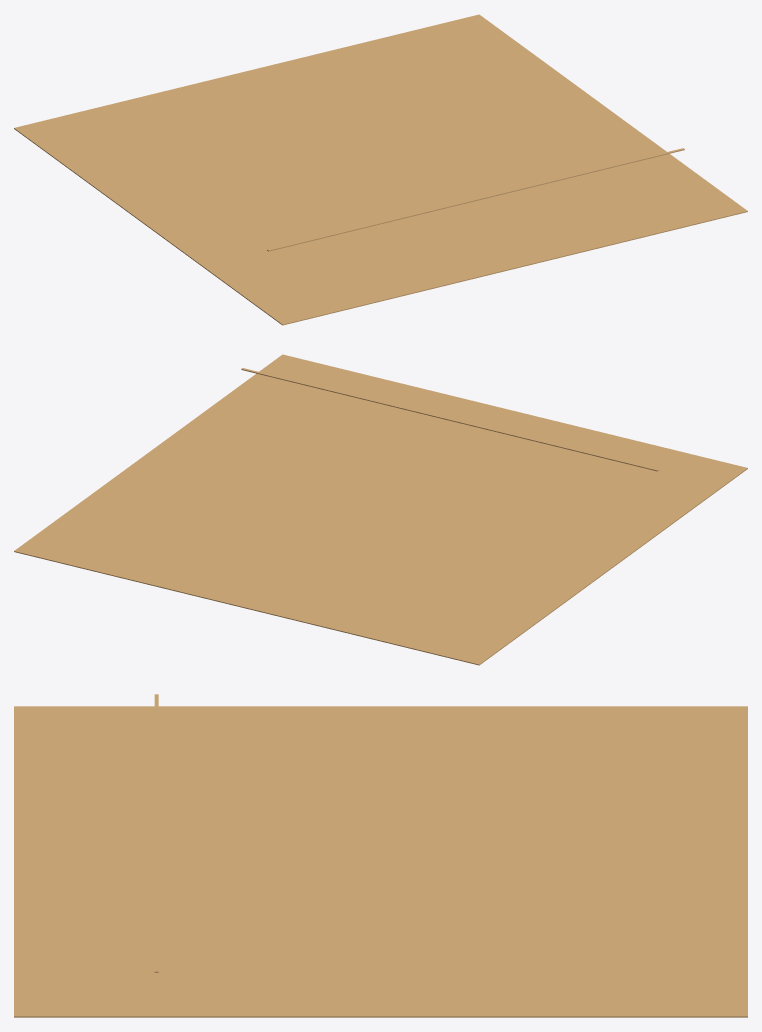
The model's file is board.glb.
The picture shows the model from 3 angles, top to bottom: view 1: azimuth 30°, elevation 25°; view 2: azimuth 150°, elevation 25°; view 3: azimuth 270°, elevation 25°; orthographic projection. The views are drawn at different scales.
Visible parts, largest first — view 1: Substrate_Layer_0_Z0, Unified_Net_2_Island_4; view 2: Substrate_Layer_0_Z0, Unified_Net_2_Island_4; view 3: Substrate_Layer_0_Z0, Unified_Net_2_Island_4, Unified_Net_1_Island_3.
Boxes of the visible parts, x1,y1,x2,y2 form: Substrate_Layer_0_Z0: (14, 14, 747, 325); Unified_Net_2_Island_4: (267, 148, 684, 251); Substrate_Layer_0_Z0: (14, 354, 747, 665); Unified_Net_2_Island_4: (241, 368, 658, 471); Substrate_Layer_0_Z0: (14, 706, 747, 1017); Unified_Net_2_Island_4: (154, 694, 158, 972); Unified_Net_1_Island_3: (356, 773, 364, 862).
Bounding box in the file's own units: 0.018 × 0.0013 × 0.018.
